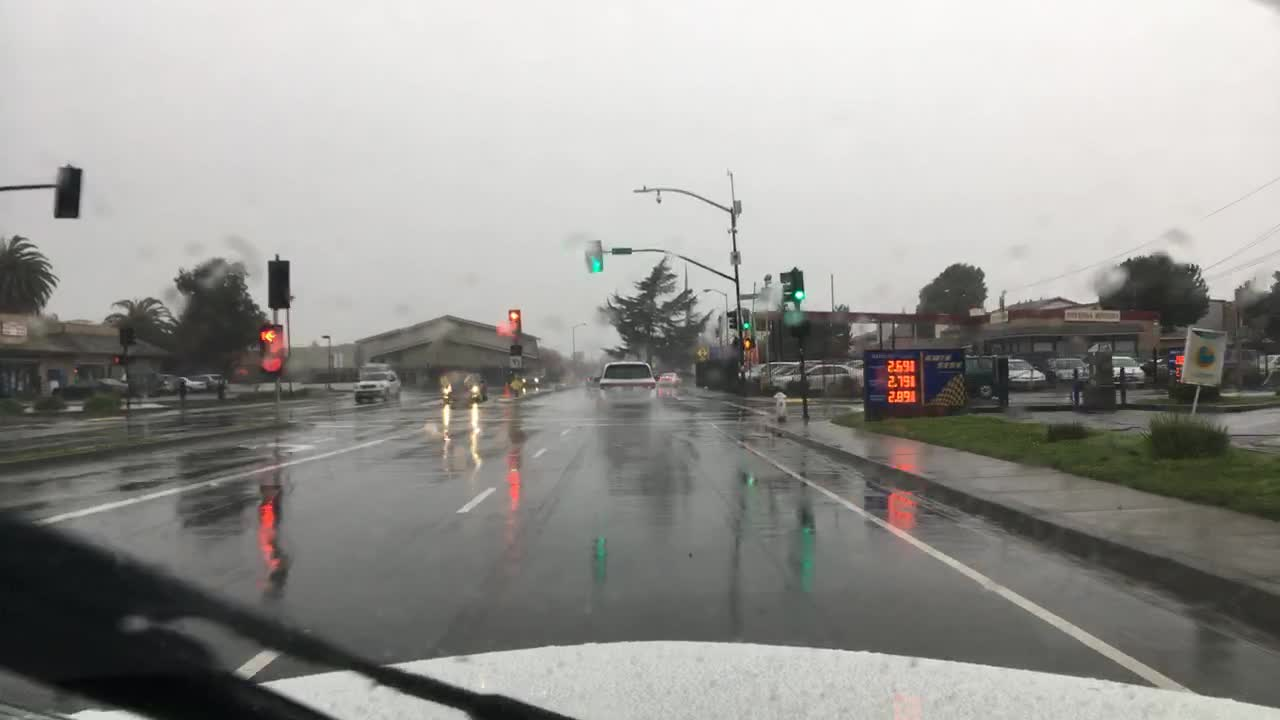car: (776, 364, 862, 400), (598, 362, 654, 408), (964, 350, 1003, 400), (999, 355, 1048, 391), (351, 369, 402, 403), (439, 371, 488, 405), (1048, 351, 1094, 384), (53, 382, 115, 400), (1230, 344, 1257, 384), (1109, 355, 1144, 385), (772, 359, 812, 384), (1139, 351, 1168, 384), (1255, 348, 1273, 389), (754, 362, 786, 384), (174, 373, 206, 394), (99, 375, 135, 393), (155, 373, 181, 393), (581, 373, 597, 403), (196, 373, 228, 387), (522, 374, 548, 389), (738, 364, 763, 378), (656, 371, 681, 385), (847, 357, 867, 367)
traffic light: (54, 168, 79, 218), (269, 261, 289, 309), (258, 325, 278, 368), (779, 268, 794, 304), (507, 309, 520, 338), (792, 267, 803, 297), (590, 242, 598, 271), (740, 338, 754, 352), (110, 354, 126, 366), (742, 307, 749, 328)
traffic sign: (509, 374, 523, 396), (509, 344, 522, 364), (610, 247, 630, 255)
